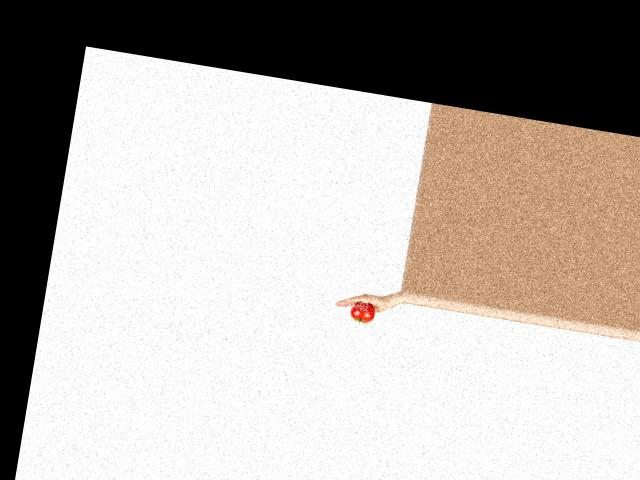tomato: (349, 300, 376, 323)
